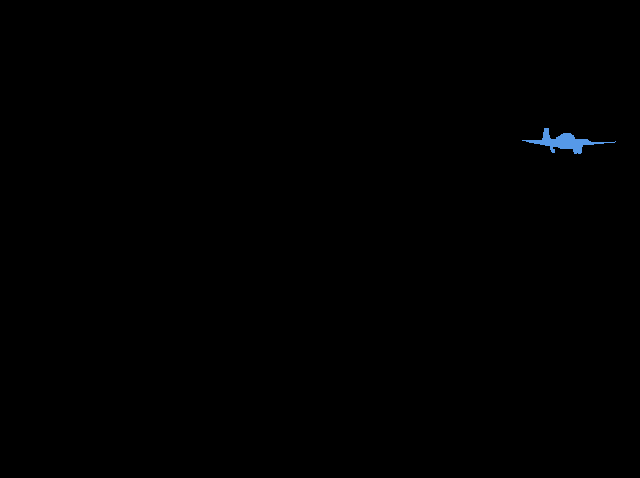Airplane: (522, 128, 615, 154)
